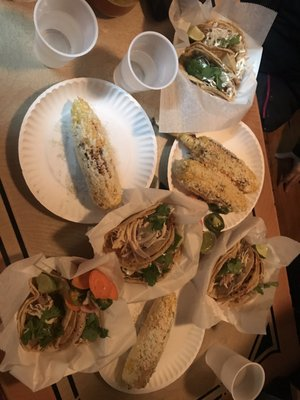soup: (179, 14, 248, 102)
